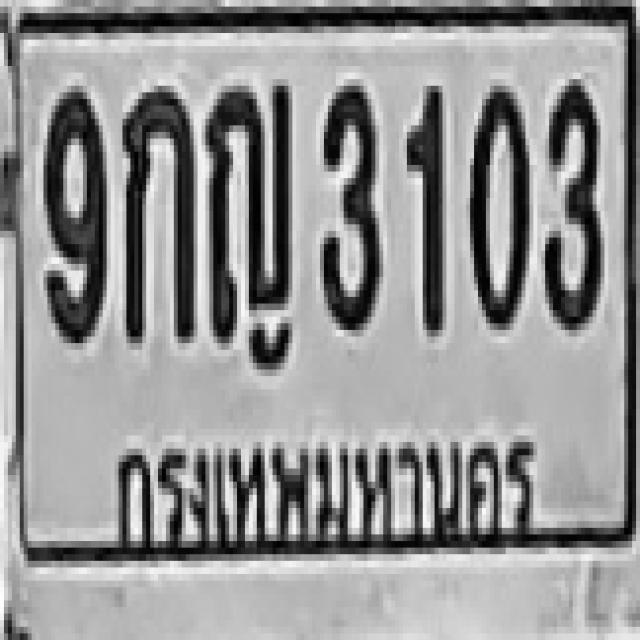0: (466, 79, 530, 323)
1: (403, 83, 442, 333)
10GorGai: (120, 79, 192, 337)
22YorYing: (205, 76, 288, 333)
3: (541, 79, 601, 330), (316, 79, 375, 323)
9: (40, 86, 102, 336)
Bangkok: (111, 430, 543, 551)
